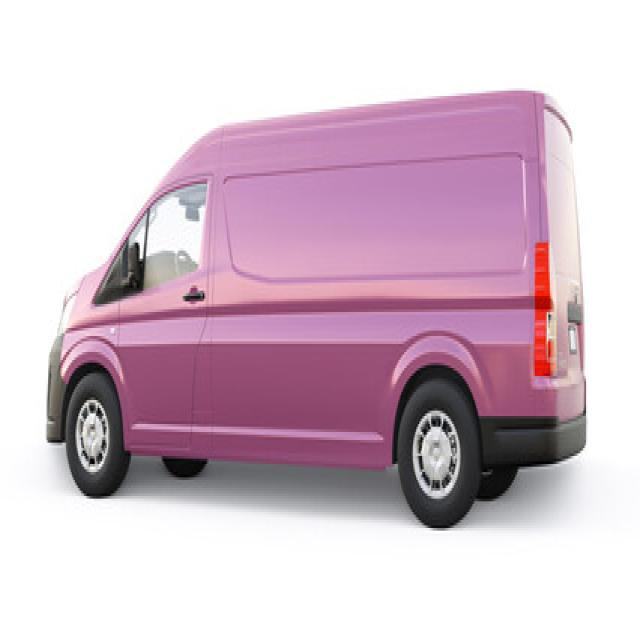van: (47, 93, 584, 528)
